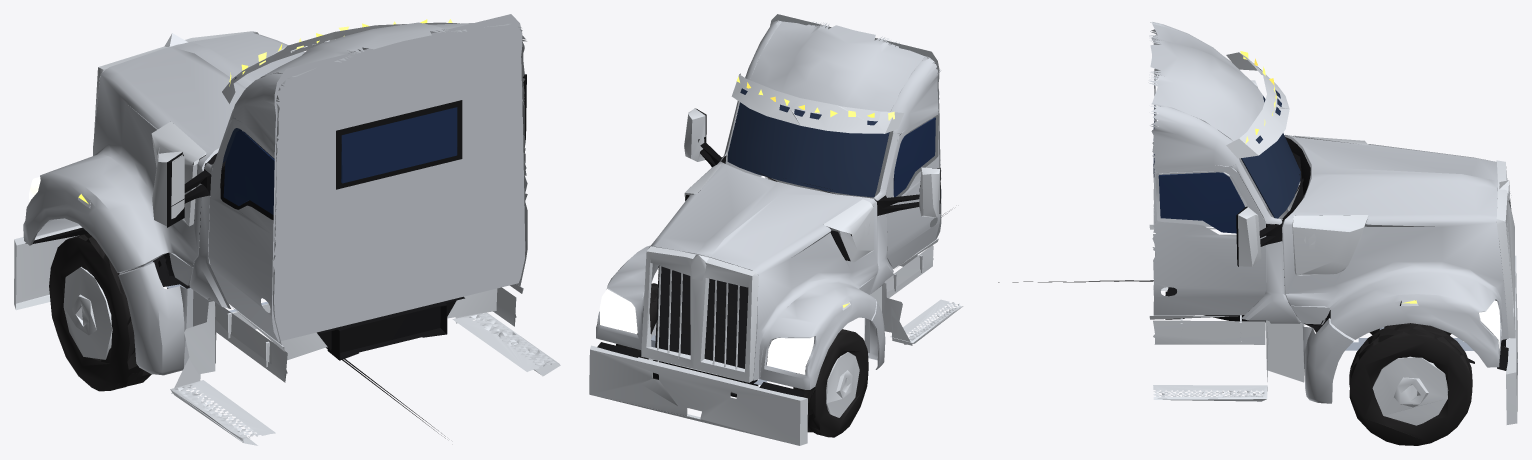
File: cab_americana_lod1.glb
3 renders of one model, left to right at view 1: azimuth 30°, elevation 25°; view 2: azimuth 150°, elevation 25°; view 3: azimuth 270°, elevation 25°, orthographic. The views are drawn at different scales.
Visible parts, largest first — view 1: lod1_paint_white_panel, lod1_chrome, lod1_plastic_black, lod1_glass, lod1_rubber_tire; view 2: lod1_paint_white_panel, lod1_chrome, lod1_glass_wind, lod1_plastic_black, lod1_rubber_tire, lod1_lamp_white, lod1_glass; view 3: lod1_paint_white_panel, lod1_chrome, lod1_rubber_tire, lod1_glass, lod1_glass_wind, lod1_plastic_black.
Boxes of the visible parts, <box> form: lod1_paint_white_panel: <box>23,14,527,375</box>; lod1_chrome: <box>14,22,560,445</box>; lod1_plastic_black: <box>25,74,526,438</box>; lod1_glass: <box>223,107,457,214</box>; lod1_rubber_tire: <box>49,233,151,391</box>; lod1_paint_white_panel: <box>596,14,941,389</box>; lod1_chrome: <box>589,73,963,445</box>; lod1_glass_wind: <box>727,88,889,197</box>; lod1_plastic_black: <box>597,108,949,397</box>; lod1_rubber_tire: <box>616,283,868,437</box>; lod1_lamp_white: <box>599,288,813,374</box>; lod1_glass: <box>893,117,935,196</box>; lod1_paint_white_panel: <box>1148,21,1508,403</box>; lod1_chrome: <box>1149,52,1517,425</box>; lod1_rubber_tire: <box>1349,323,1472,445</box>; lod1_glass: <box>1153,105,1244,233</box>; lod1_glass_wind: <box>1241,66,1300,218</box>; lod1_plastic_black: <box>998,137,1508,370</box>.
Bounding box in the file's own units: 2.84 × 3.19 × 4.53.
10 materials, 3 textured.
